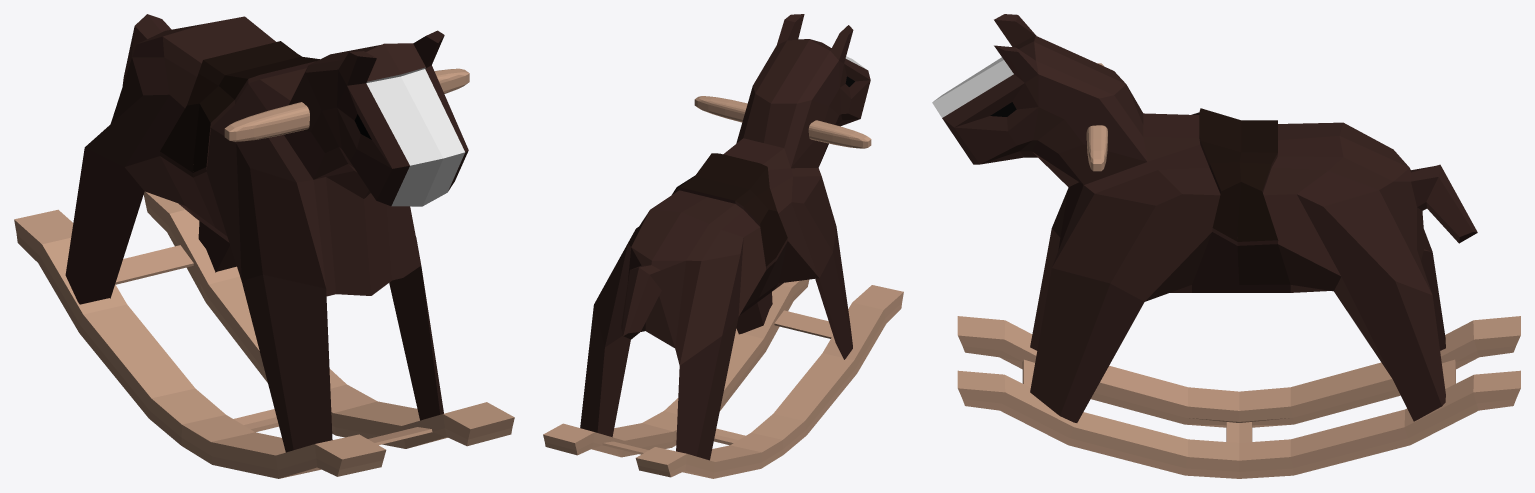
Rendered from RockingHorse.fbx.
The picture shows the model from 3 angles, left to right: view 1: azimuth 30°, elevation 25°; view 2: azimuth 150°, elevation 25°; view 3: azimuth 270°, elevation 25°; orthographic projection. The views are drawn at different scales.
Visible parts, largest first — view 1: Cube, Cube.001, Cube.002; view 2: Cube, Cube.001, Cube.002; view 3: Cube, Cube.001, Cube.002.
Boxes of the visible parts, x1,y1,x2,y2 form: Cube: (65,14,468,452); Cube.001: (14,191,514,478); Cube.002: (224,68,469,141); Cube: (580,14,870,460); Cube.001: (543,279,903,478); Cube.002: (694,96,871,148); Cube: (932,14,1477,422); Cube.001: (957,316,1520,478); Cube.002: (1086,63,1107,171).
Bounding box in the file's own units: 210 × 402 × 519.
